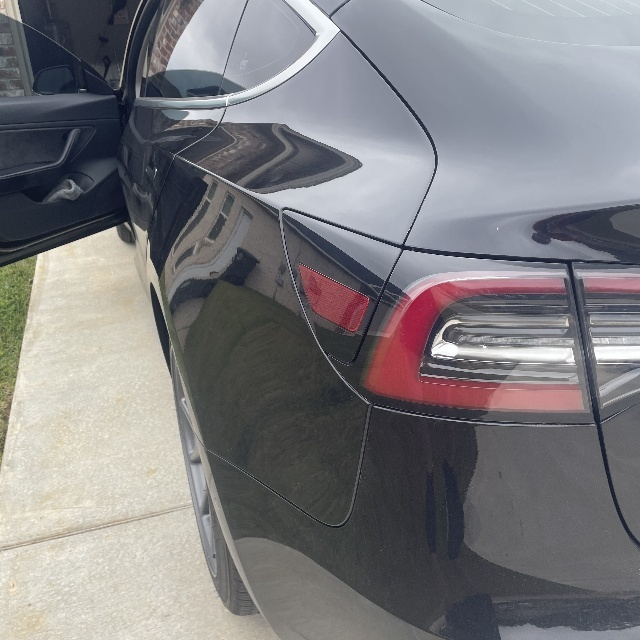reflector: (296, 261, 369, 333)
